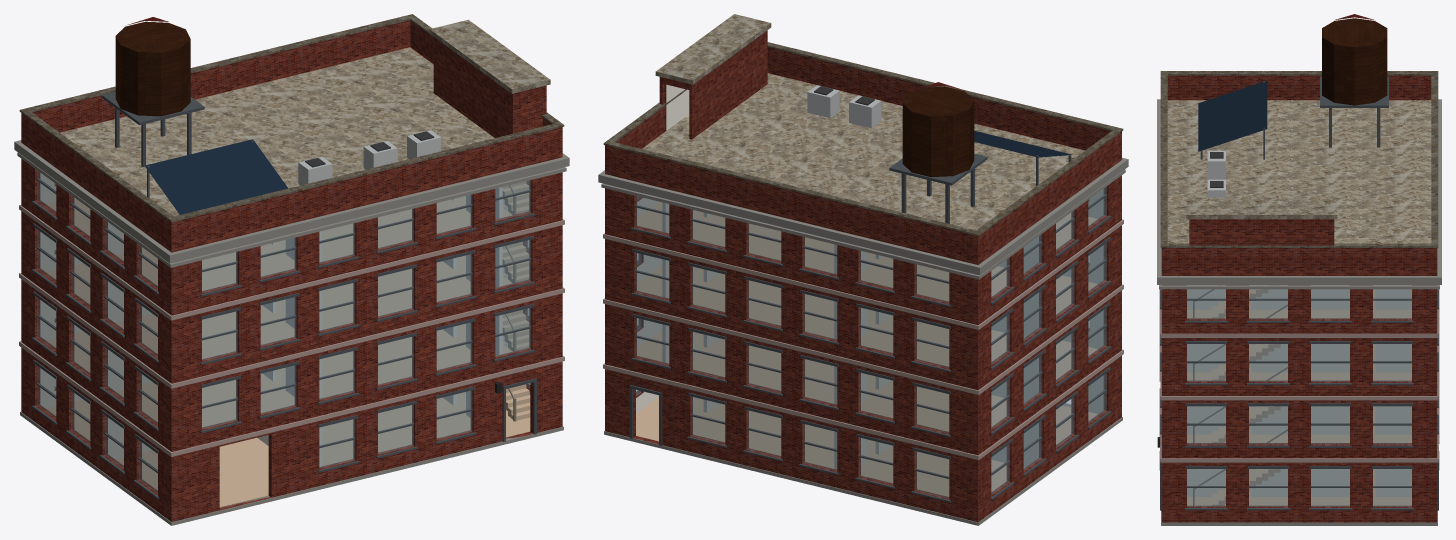
File: mh-mill-lofts.towns-v1.lod0.glb
3 views of the same model, side by side, from view 1: azimuth 30°, elevation 25°; view 2: azimuth 150°, elevation 25°; view 3: azimuth 270°, elevation 25° (orthographic). The views are drawn at different scales.
Parts seen in each view (by area): view 1: mh-mill-lofts; view 2: mh-mill-lofts; view 3: mh-mill-lofts.
Boxes of the visible parts, x1,y1,x2,y2 form: mh-mill-lofts: [14, 14, 569, 525]; mh-mill-lofts: [598, 14, 1128, 525]; mh-mill-lofts: [1157, 14, 1441, 525].
Bounding box in the file's own units: 18.4 × 18.05 × 12.4.
Materials: 7 (3 with a texture image).
